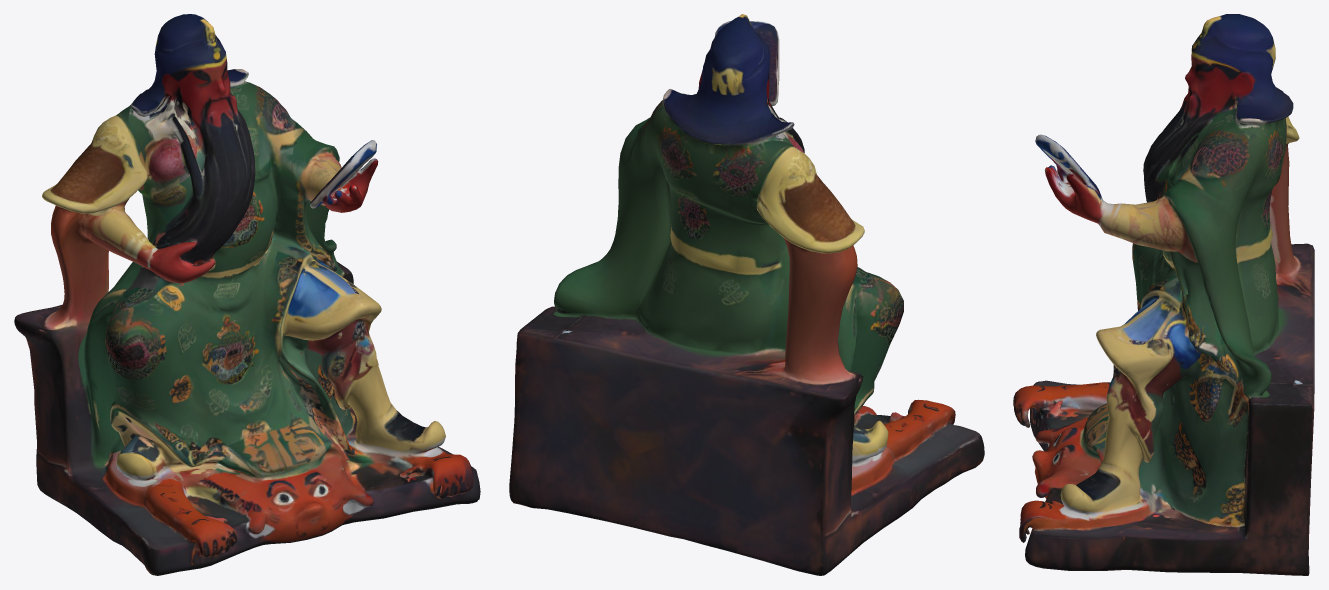
3 renders of one model, left to right at view 1: azimuth 30°, elevation 25°; view 2: azimuth 150°, elevation 25°; view 3: azimuth 270°, elevation 25°, orthographic. The views are drawn at different scales.
Visible parts, largest first — view 1: QD-关公; view 2: QD-关公; view 3: QD-关公.
Part boxes in pixels (<box>): QD-关公: <box>14,14,480,575</box>; QD-关公: <box>509,14,984,575</box>; QD-关公: <box>1013,14,1314,575</box>.
Bounding box in the file's own units: 0.3281 × 0.2592 × 0.4512.
